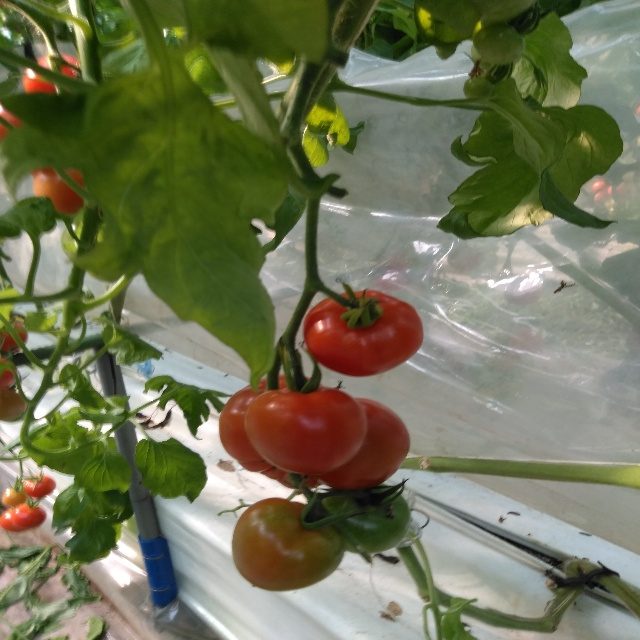l_fully_ripened: (219, 374, 322, 491), (244, 386, 369, 475), (303, 289, 424, 378), (314, 397, 411, 490), (12, 503, 46, 529), (22, 476, 57, 499), (0, 507, 29, 534)
l_green: (315, 483, 411, 554), (472, 23, 525, 66), (464, 75, 501, 102)
l_half_ripened: (231, 497, 345, 592), (1, 487, 28, 507)
